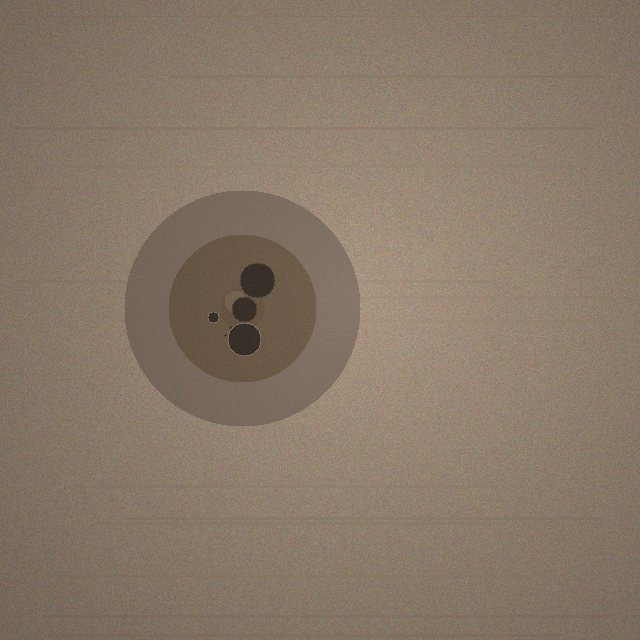shrinkage: (124, 190, 360, 426)
